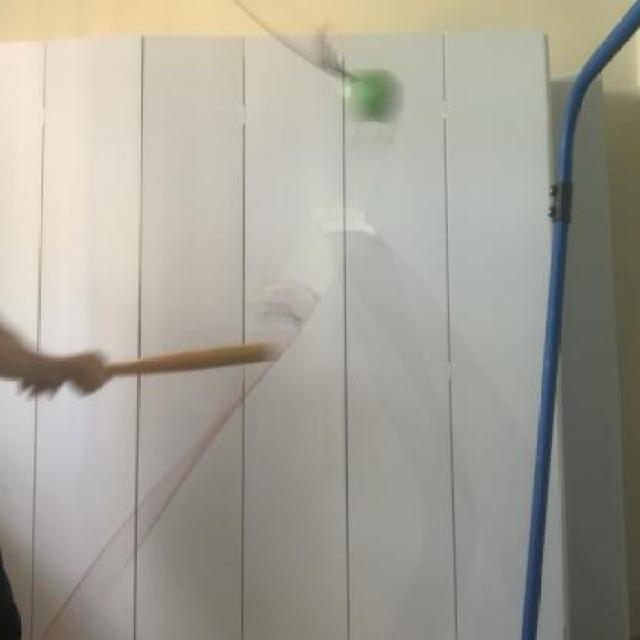baseball: (332, 57, 413, 129)
